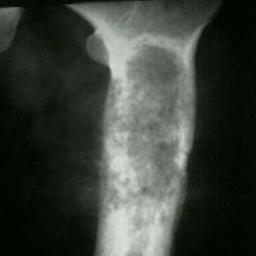cancer: (103, 38, 195, 256)
